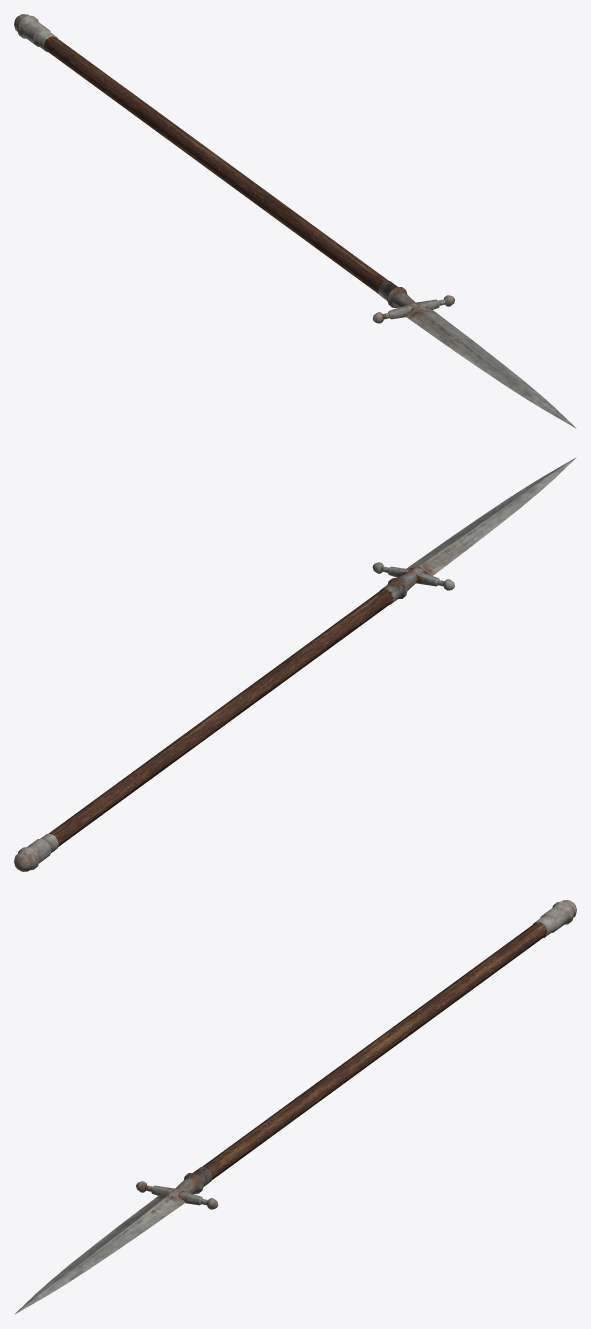
Rendered from spear.fbx.
3 renders of one model, top to bottom at view 1: azimuth 30°, elevation 25°; view 2: azimuth 150°, elevation 25°; view 3: azimuth 330°, elevation 25°, orthographic.
Visible parts, largest first — view 1: WP_A_0902.001, WP_A_0902; view 2: WP_A_0902.001, WP_A_0902; view 3: WP_A_0902.001, WP_A_0902.
Boxes of the visible parts, box(x1,y1,x2,y2) form: WP_A_0902.001: box(43, 36, 388, 293); WP_A_0902: box(14, 14, 576, 428); WP_A_0902.001: box(48, 589, 392, 846); WP_A_0902: box(14, 457, 576, 871); WP_A_0902.001: box(202, 922, 547, 1179); WP_A_0902: box(14, 900, 576, 1314).
Size of the model in its own units: 18.58 by 4.88 by 218.
Materials: 2 (2 with a texture image).
